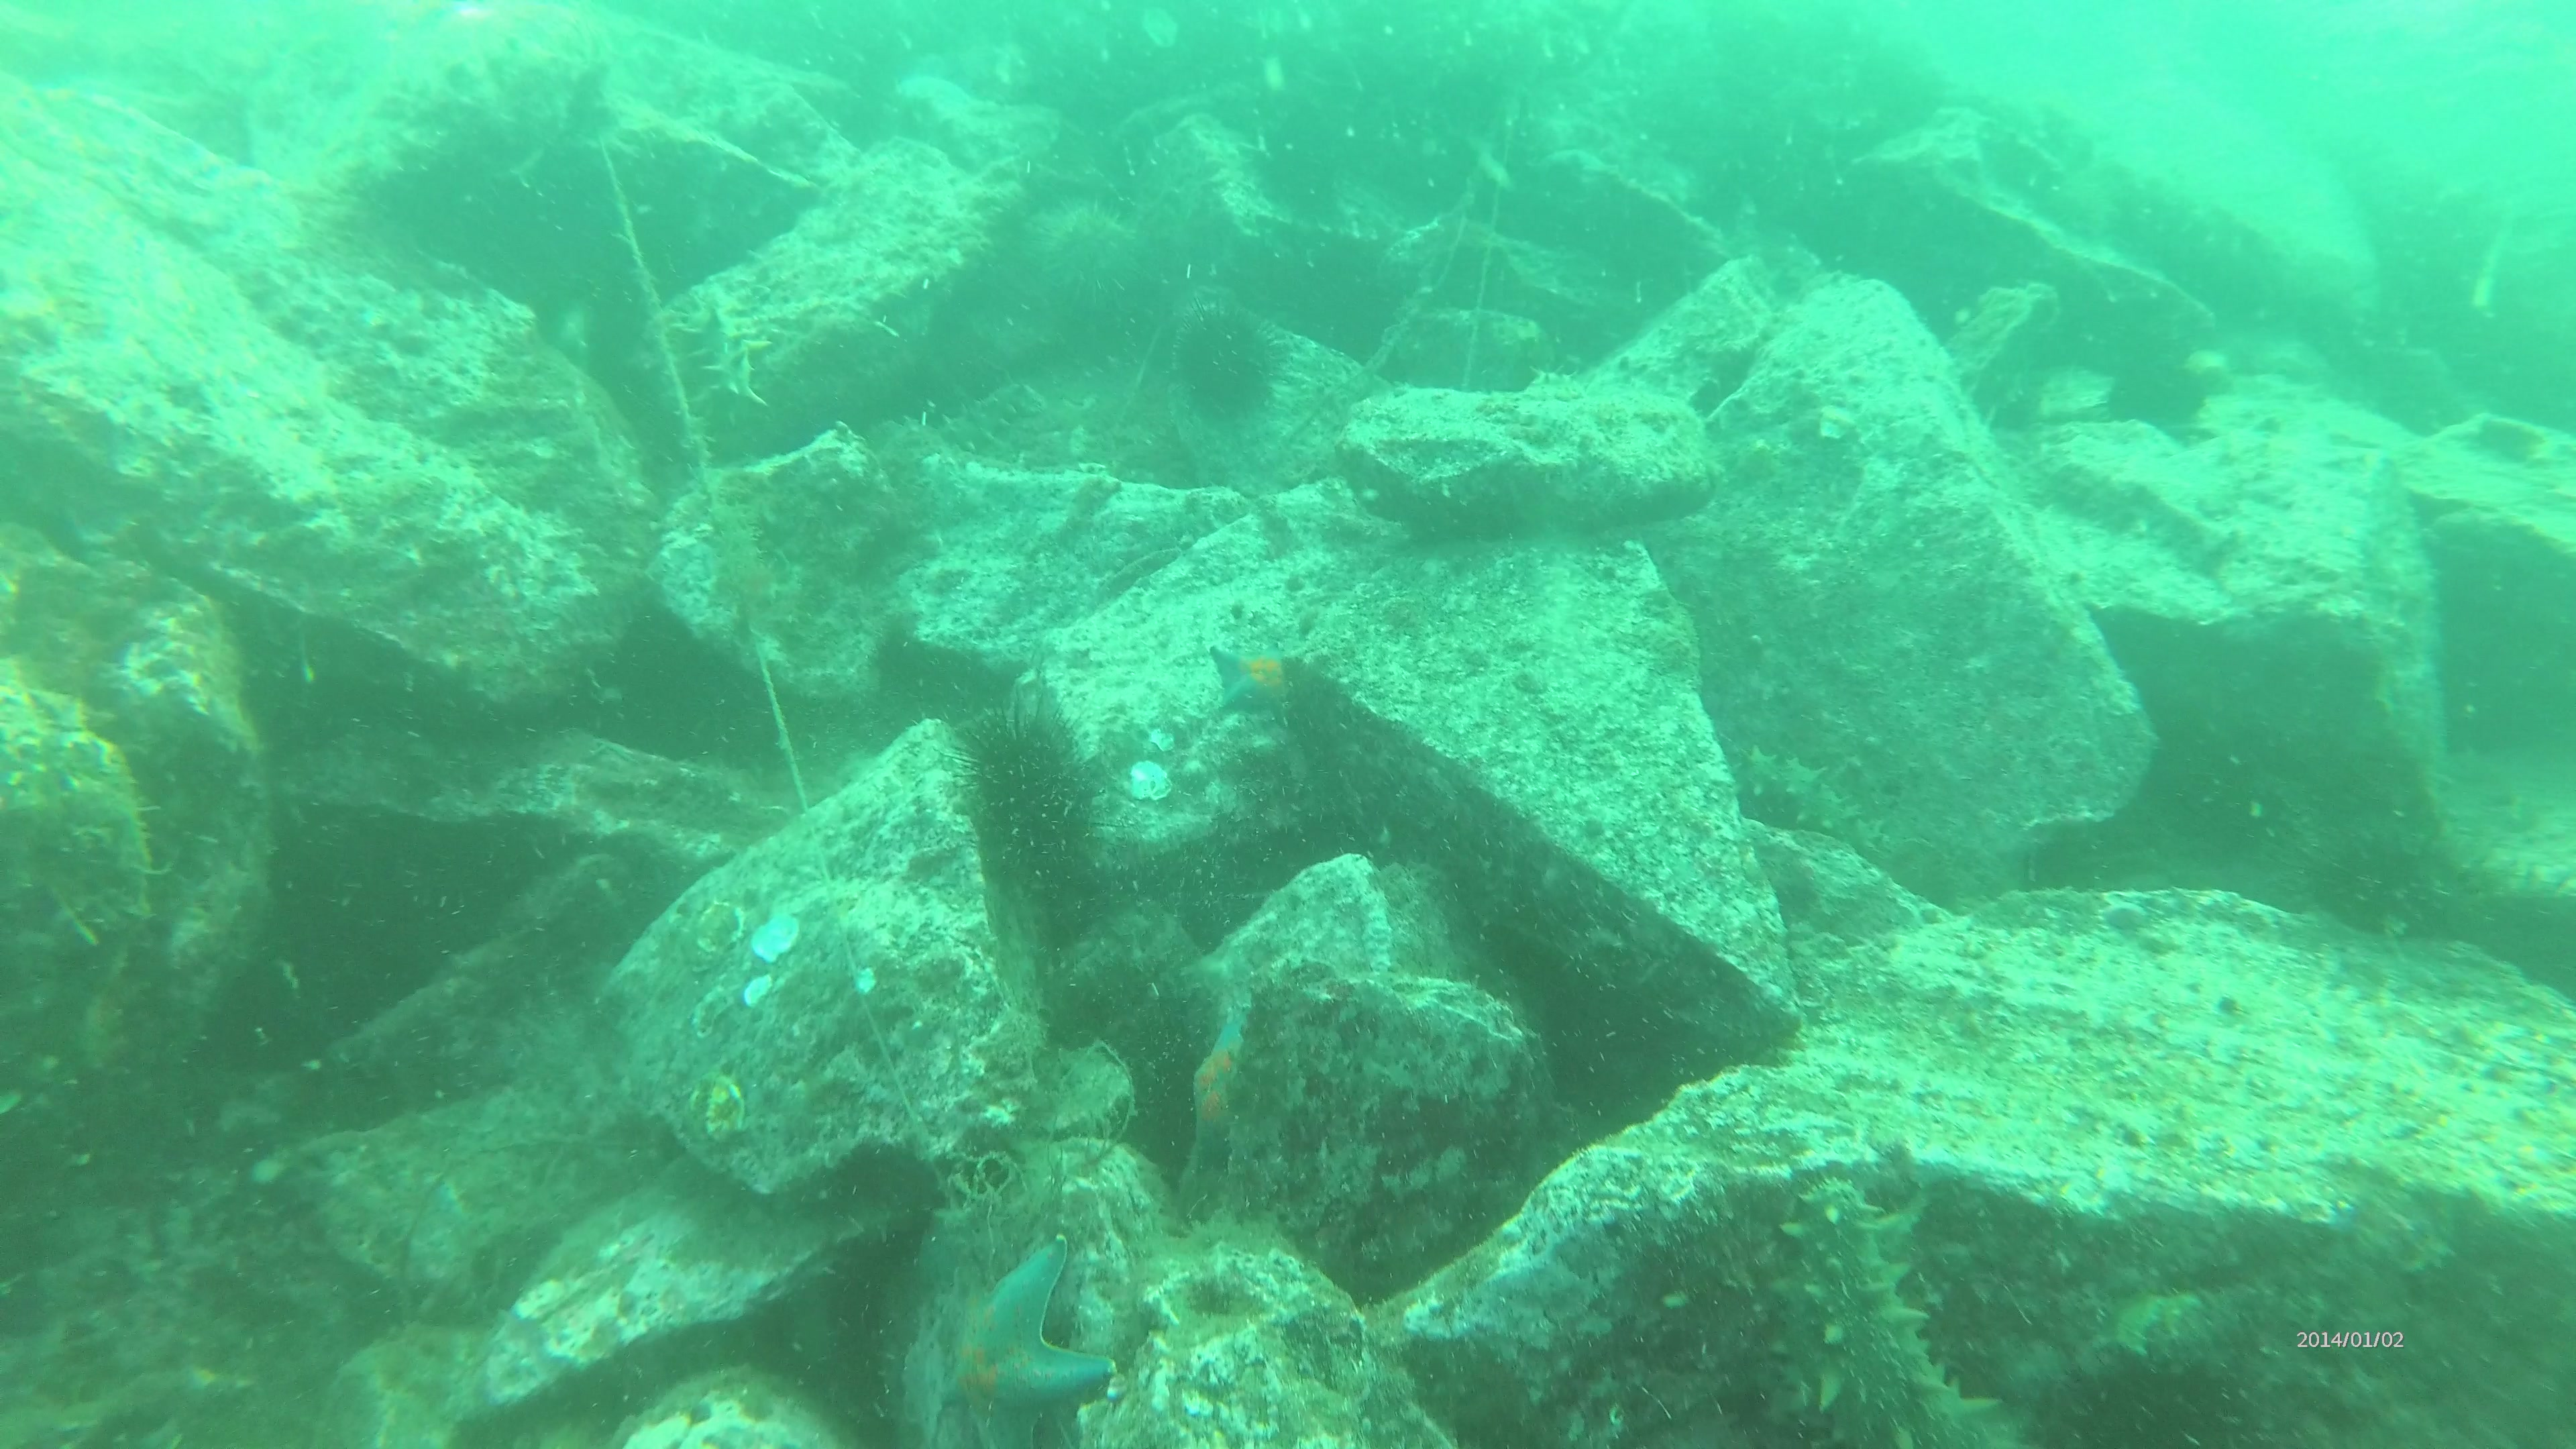echinus: (952, 697, 1123, 943), (1166, 297, 1293, 446), (1024, 200, 1150, 329), (1230, 142, 1352, 234)
holothurian: (1783, 1166, 2001, 1449), (1730, 741, 1874, 853), (679, 283, 777, 410), (927, 387, 1047, 460), (2091, 1300, 2201, 1362)
starfish: (908, 1226, 1120, 1449), (1185, 993, 1269, 1192), (1207, 630, 1311, 717)
